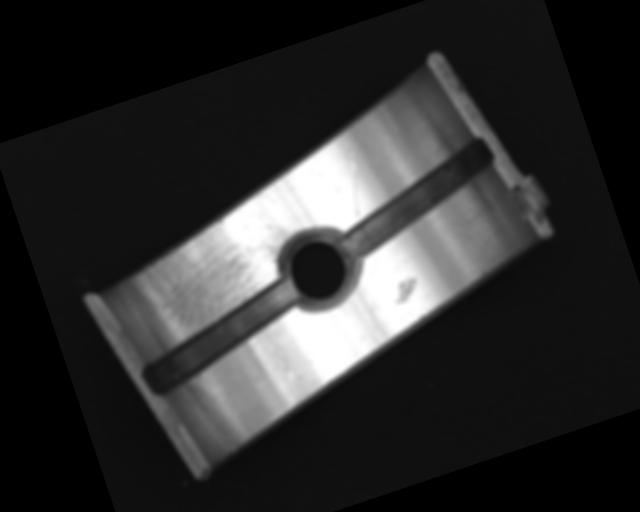bruise: (388, 273, 424, 305)
gap: (325, 136, 510, 263), (128, 277, 314, 400)
hole: (270, 217, 367, 320)
nick: (336, 151, 372, 217)
scratch: (117, 189, 315, 357)
